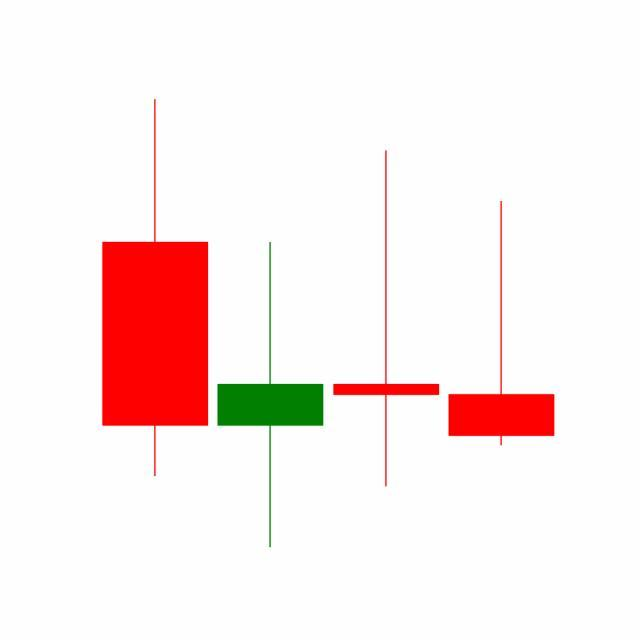Spinning Top: (329, 147, 445, 491)
